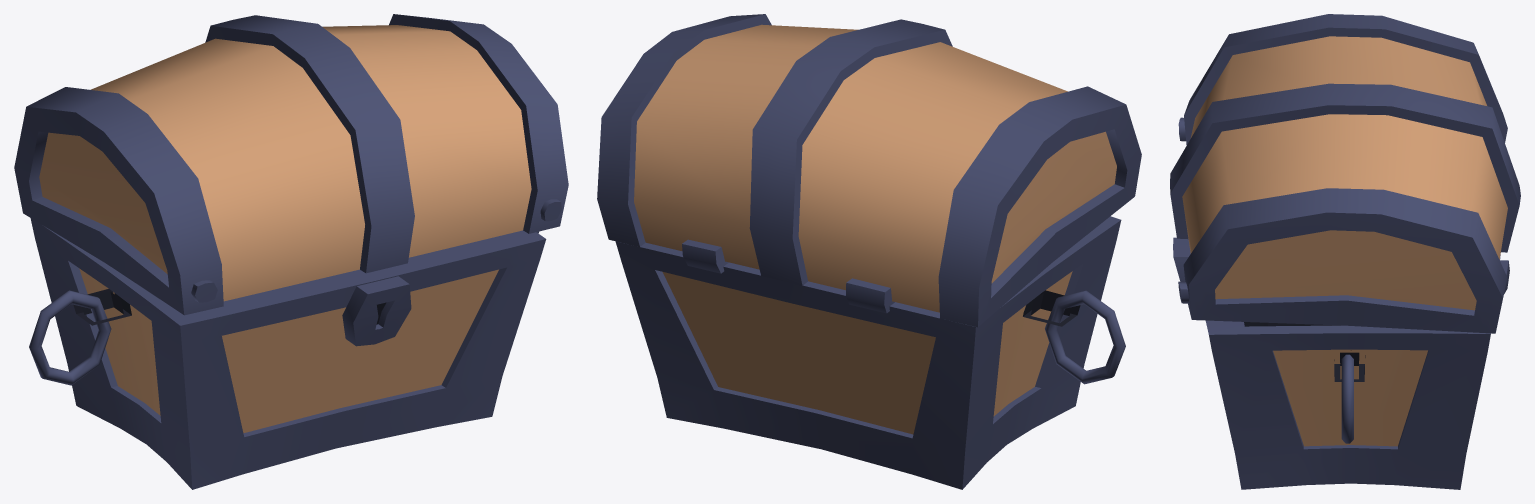
Rendered from Chest_4020427.fbx.
The picture shows the model from 3 angles, left to right: view 1: azimuth 30°, elevation 25°; view 2: azimuth 150°, elevation 25°; view 3: azimuth 270°, elevation 25°; orthographic projection. The views are drawn at different scales.
Parts seen in each view (by area): view 1: Plane.001, Plane; view 2: Plane.001, Plane; view 3: Plane.001, Plane.
Part boxes in pixels (box(x1,y1,x2,y2)): Plane.001: box(14, 14, 568, 315); Plane: box(29, 218, 546, 489); Plane.001: box(597, 14, 1141, 327); Plane: box(615, 216, 1125, 489); Plane.001: box(1170, 14, 1520, 333); Plane: box(1173, 237, 1509, 489).
Bounding box in the file's own units: 283 × 191 × 178.
